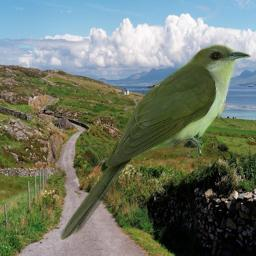Cuckoo: (60, 44, 252, 243)
